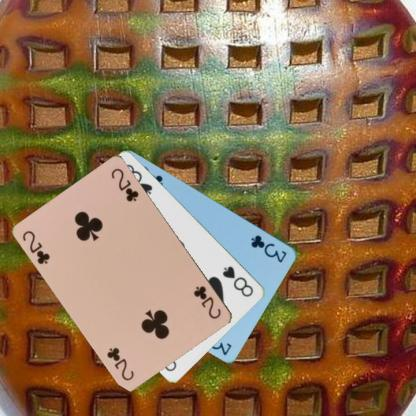2c: (191, 283, 223, 320), (20, 228, 52, 265)
3c: (248, 232, 288, 264)
8s: (220, 263, 255, 298)
